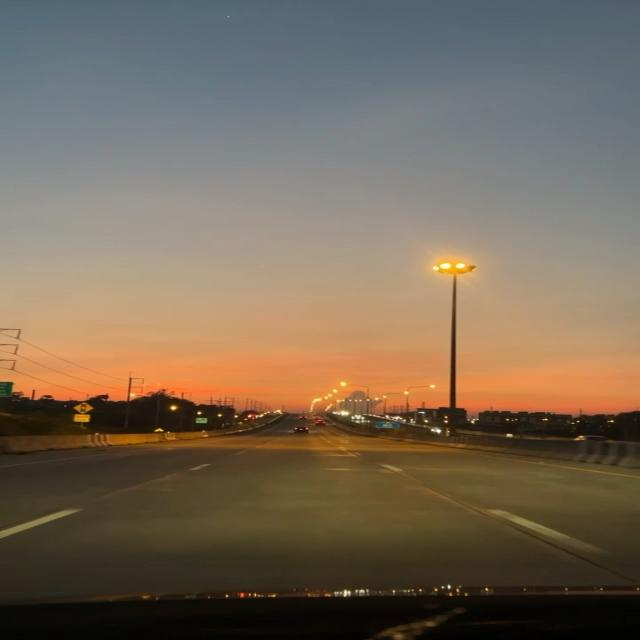Poth-hole: (34, 445, 498, 559)
